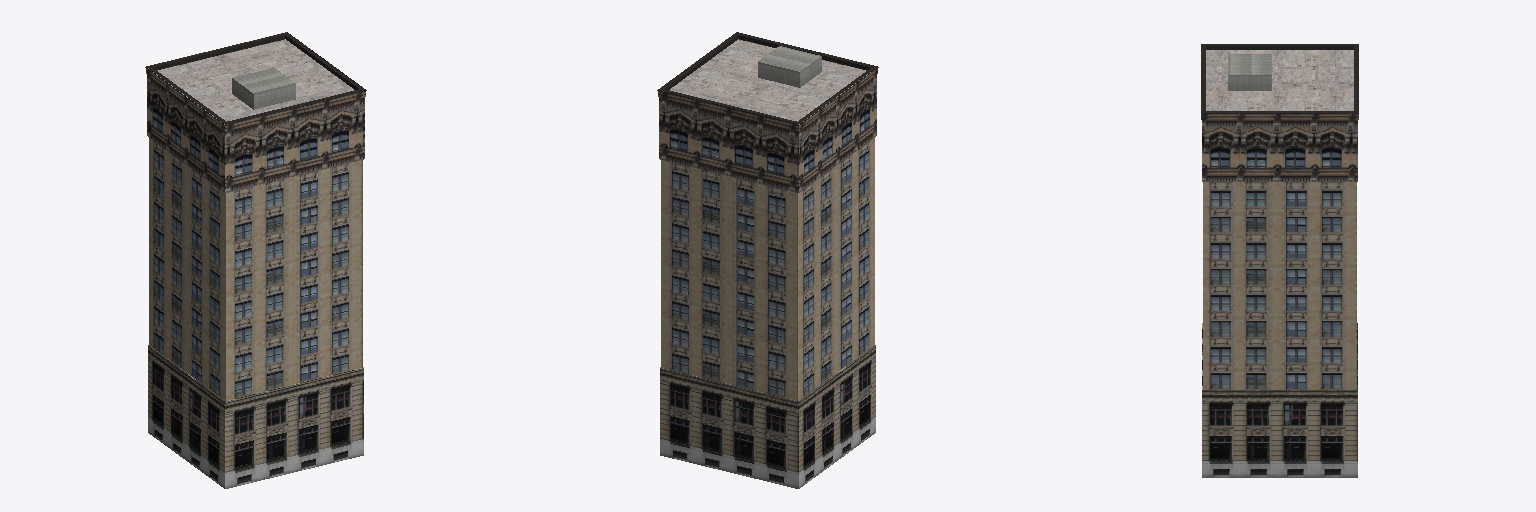
3 views of the same model, side by side, from view 1: azimuth 30°, elevation 25°; view 2: azimuth 150°, elevation 25°; view 3: azimuth 270°, elevation 25° (orthographic).
Visible parts, largest first — view 1: building_5; view 2: building_5; view 3: building_5.
Boxes of the visible parts, x1=… form: building_5: x1=145, y1=32, x2=366, y2=488; building_5: x1=657, y1=32, x2=878, y2=488; building_5: x1=1201, y1=44, x2=1358, y2=477.
Bounding box in the file's own units: 57.95 × 147 × 56.05.
Materials: 1 (1 with a texture image).